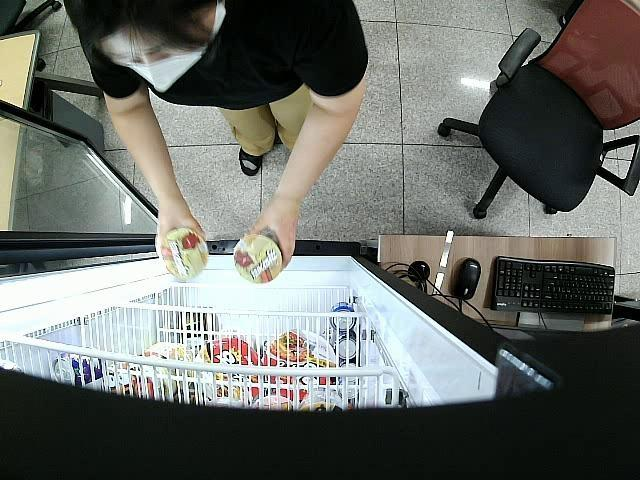04_chapagetti_S: (232, 232, 283, 286), (160, 228, 210, 280)
